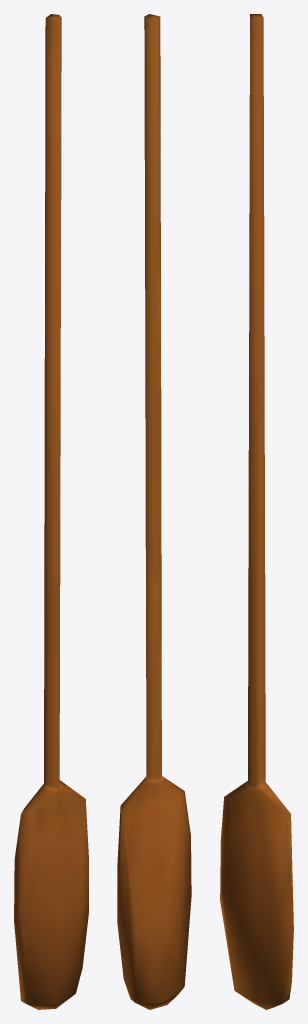
File: Oar_01.fbx
The picture shows the model from 3 angles, left to right: view 1: azimuth 30°, elevation 25°; view 2: azimuth 210°, elevation 25°; view 3: azimuth 330°, elevation 25°; orthographic projection.
Visible parts, largest first — view 1: Oar_01; view 2: Oar_01; view 3: Oar_01.
Boxes of the visible parts, x1,y1,x2,y2 form: Oar_01: (14,14,88,1009); Oar_01: (117,14,191,1009); Oar_01: (220,14,293,1009).
Bounding box in the file's own units: 36.97 × 473 × 13.41.
Materials: 1 (1 with a texture image).
